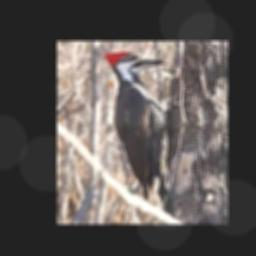Woodpecker: (105, 52, 171, 217)
